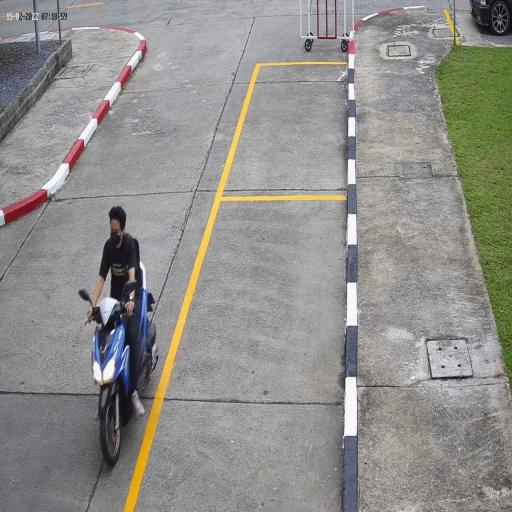motorcycle: (83, 296, 158, 466)
